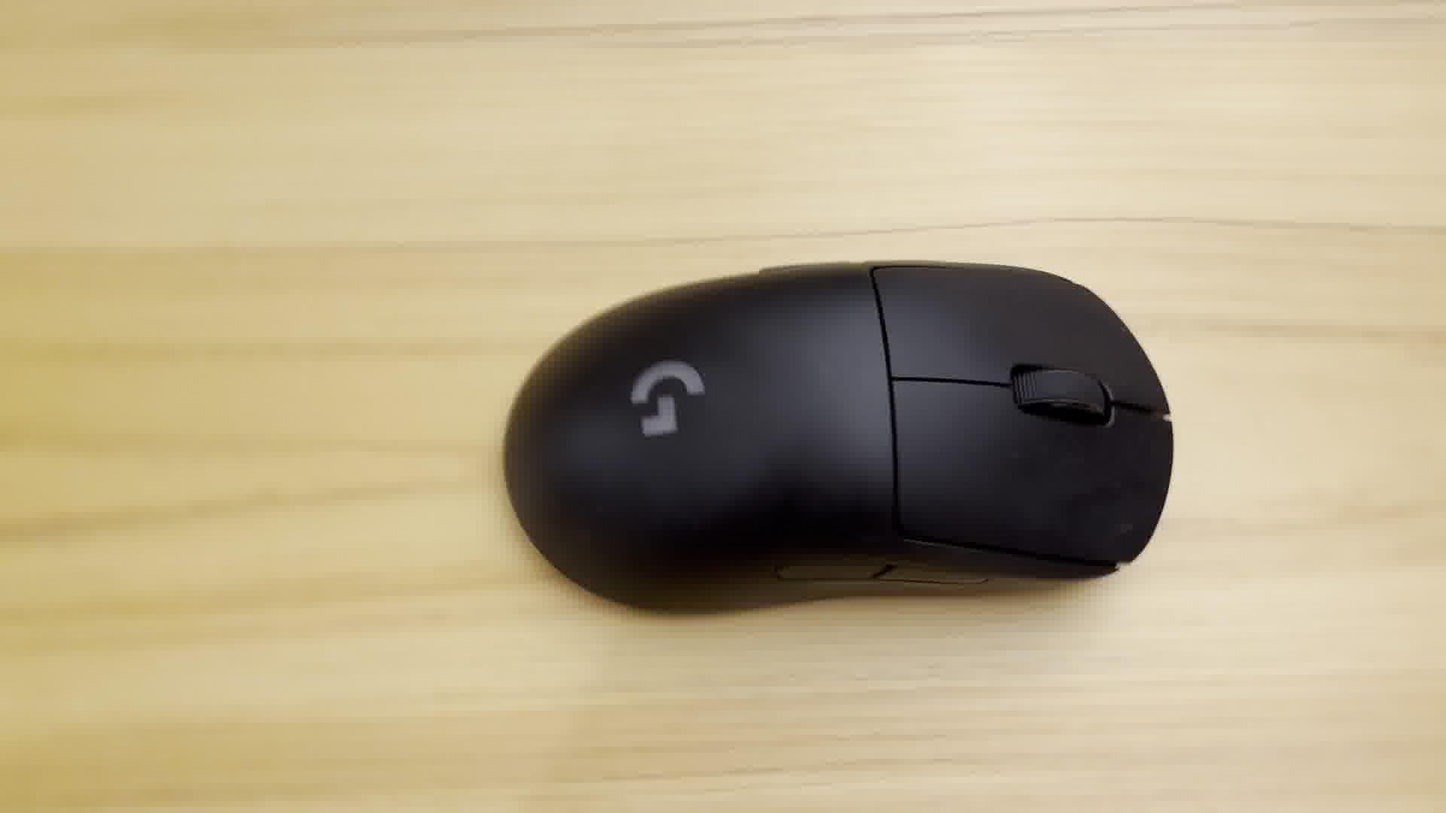mouse: (492, 248, 1189, 630)
